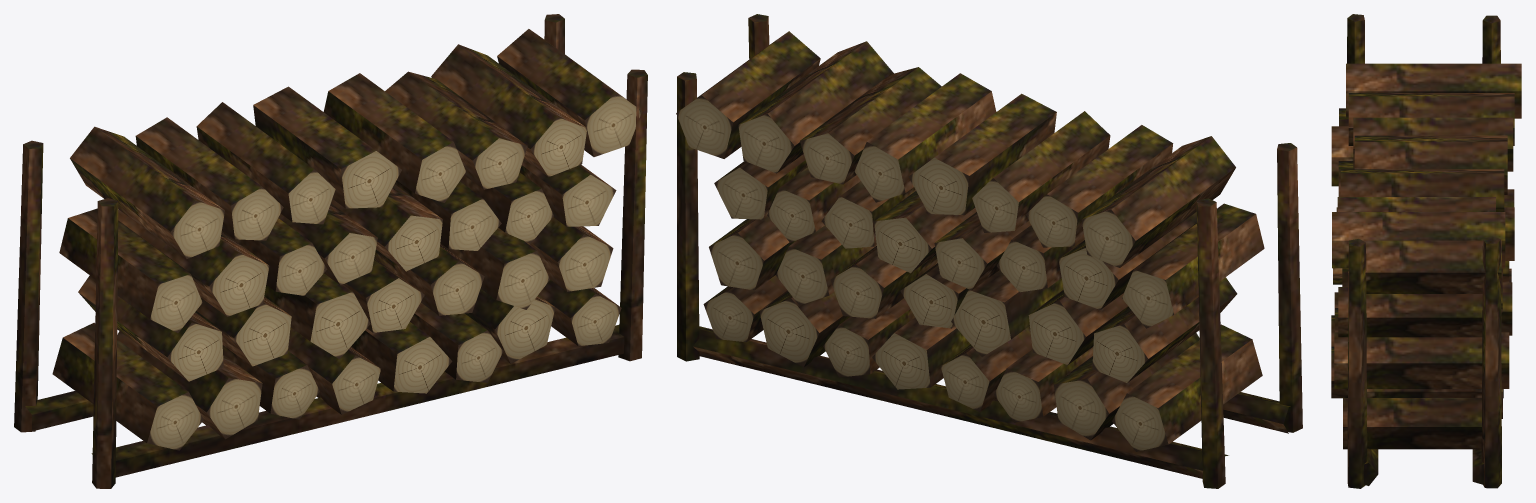
The model's file is camp_cordwood_stack.glb.
3 views of the same model, side by side, from view 1: azimuth 30°, elevation 25°; view 2: azimuth 150°, elevation 25°; view 3: azimuth 270°, elevation 25° (orthographic). The views are drawn at different scales.
Visible parts, largest first — view 1: camp_cordwood_stack; view 2: camp_cordwood_stack; view 3: camp_cordwood_stack.
Part boxes in pixels (x1,y1,x2,y2): camp_cordwood_stack: (14,14,647,488); camp_cordwood_stack: (676,14,1302,488); camp_cordwood_stack: (1331,14,1521,488).
Bounding box in the file's own units: 2.06 × 1 × 0.7052.
Materials: 2 (2 with a texture image).
